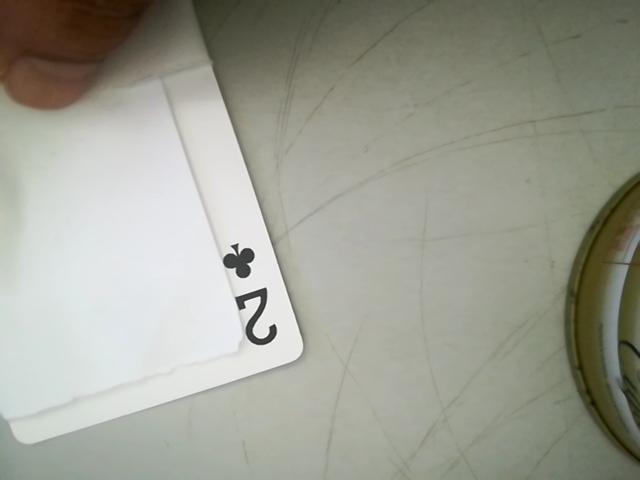mh 2: (213, 224, 285, 359)
